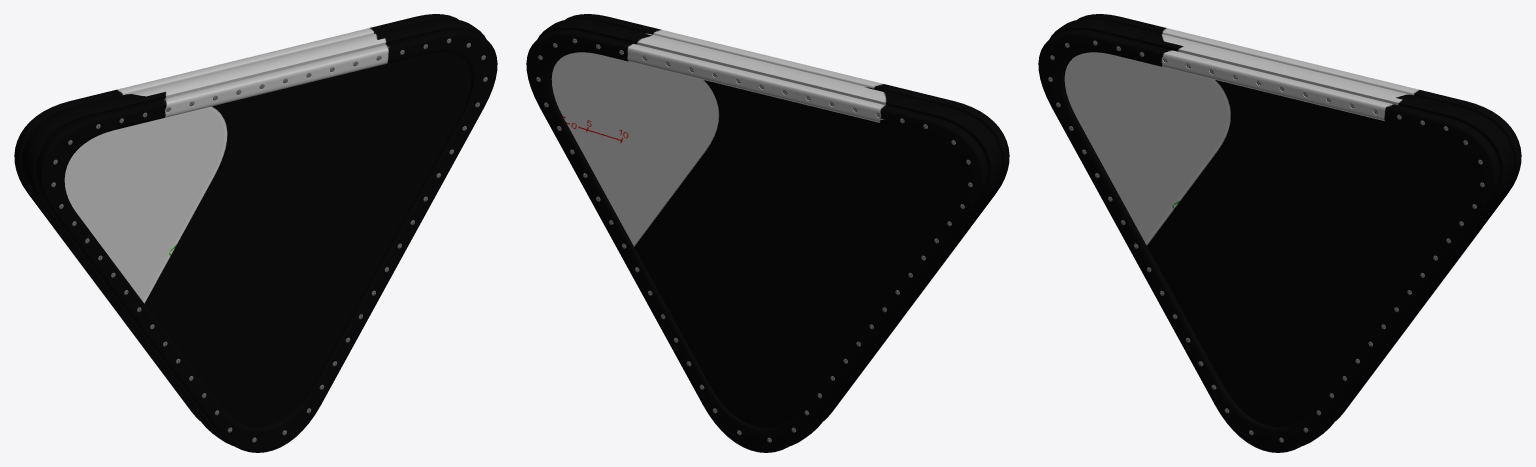
The model's file is window.fbx.
3 views of the same model, side by side, from view 1: azimuth 30°, elevation 25°; view 2: azimuth 150°, elevation 25°; view 3: azimuth 330°, elevation 25° (orthographic).
Visible parts, largest first — view 1: Frame_Baked; view 2: Frame_Baked; view 3: Frame_Baked.
Boxes of the visible parts, <box> form: Frame_Baked: <box>14,14,497,452</box>; Frame_Baked: <box>526,14,1009,452</box>; Frame_Baked: <box>1038,14,1521,452</box>.
Bounding box in the file's own units: 594 × 464 × 61.62.
